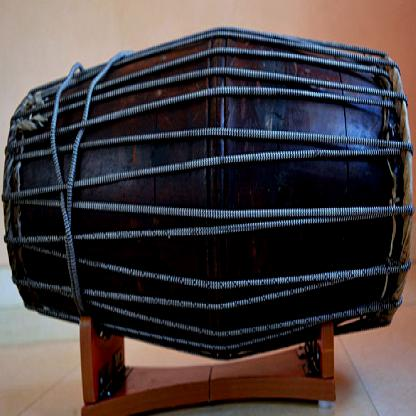Mridangam: (2, 16, 415, 397)
